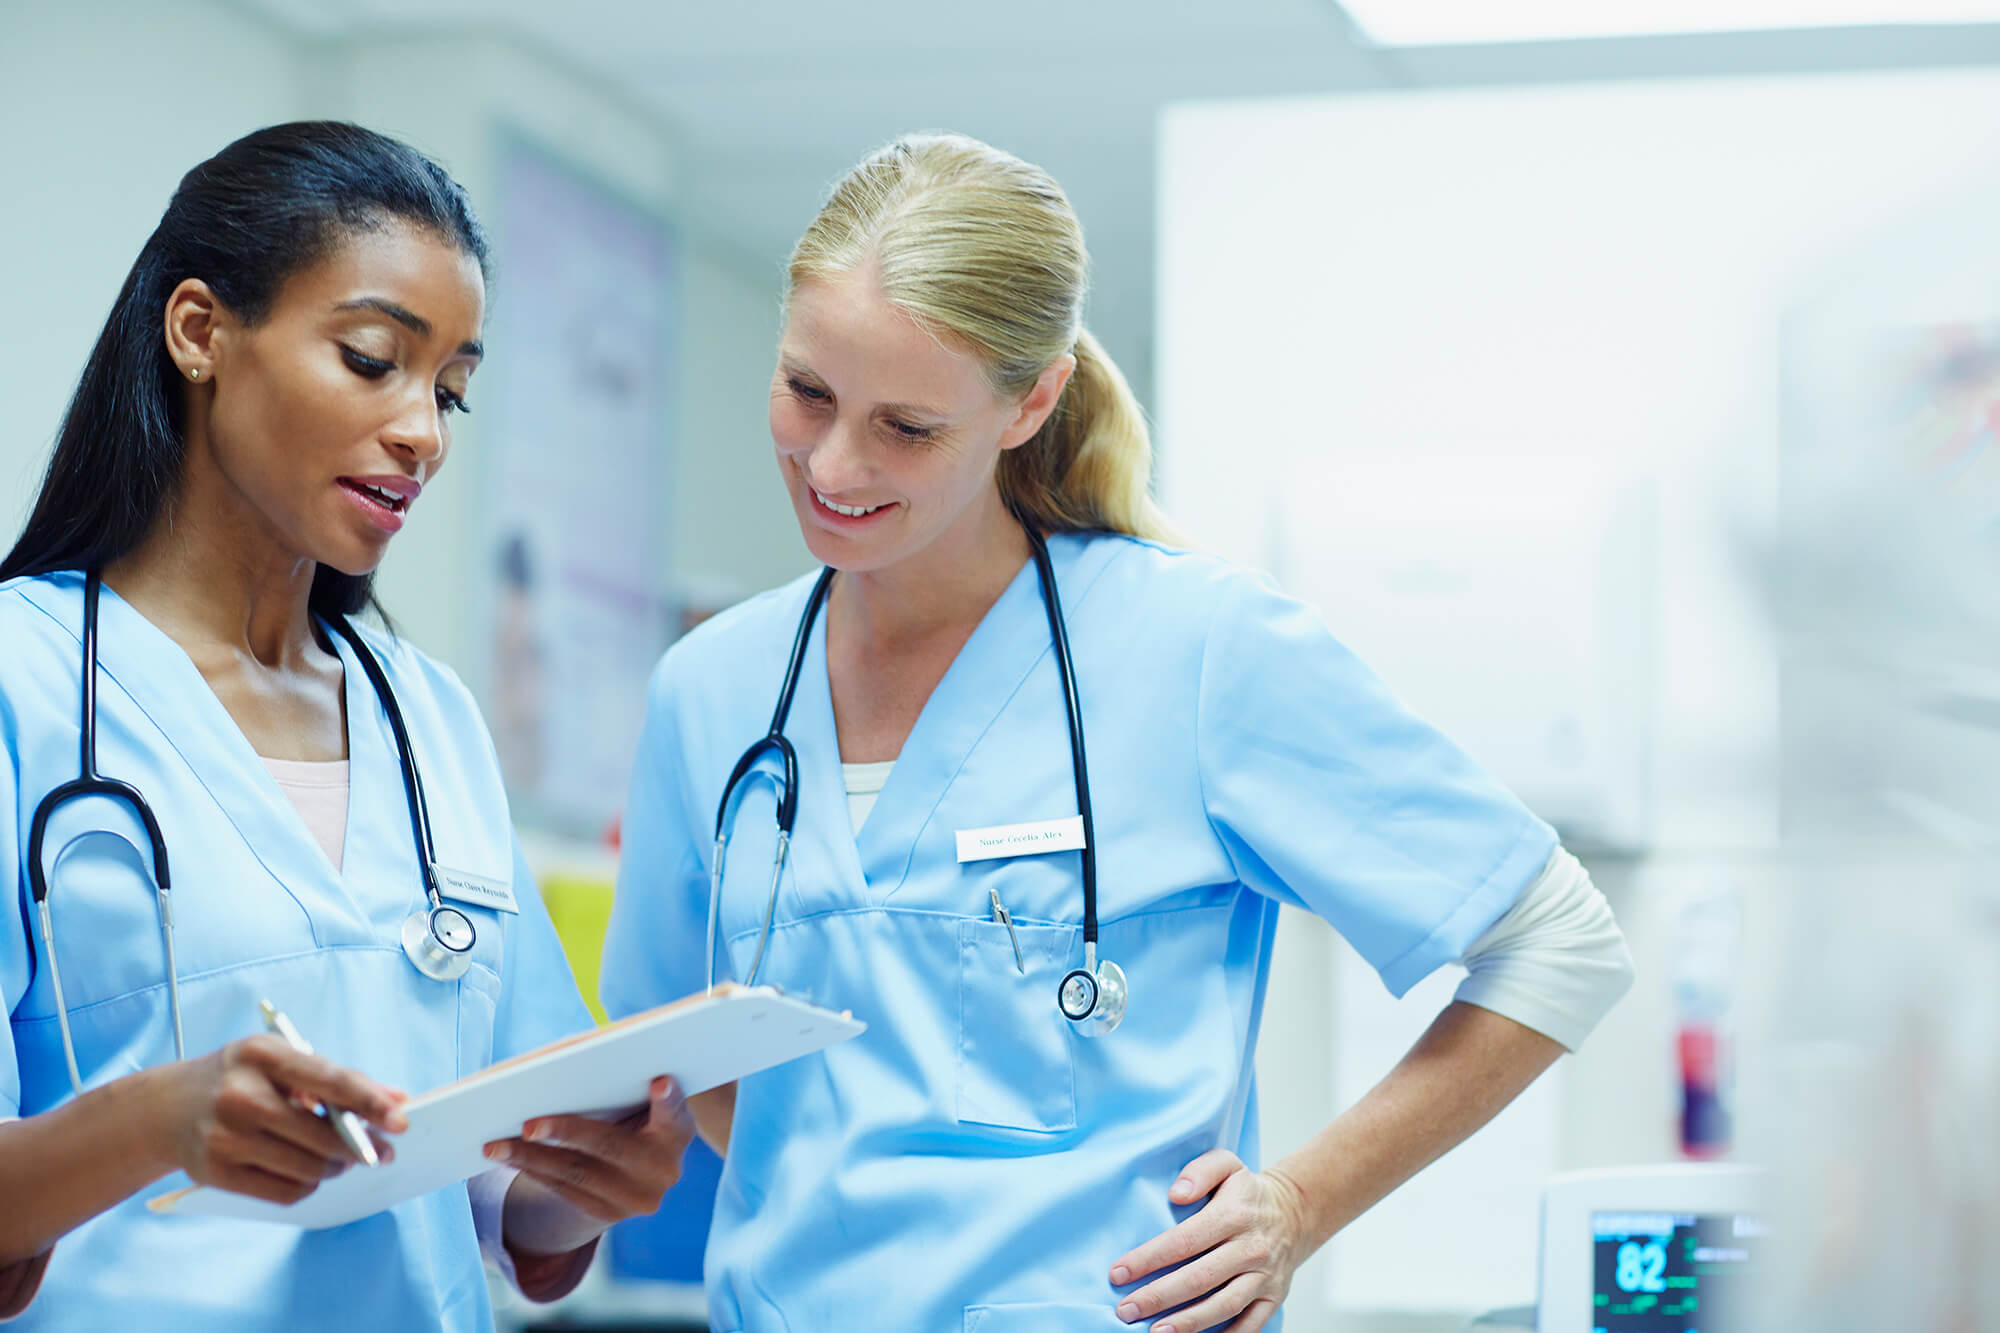Nurse: (15, 87, 1557, 1266)
